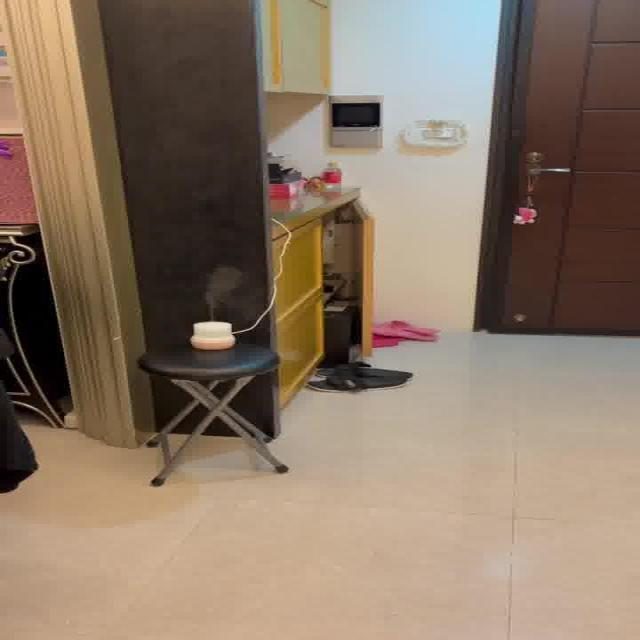fire: (190, 264, 252, 316)
